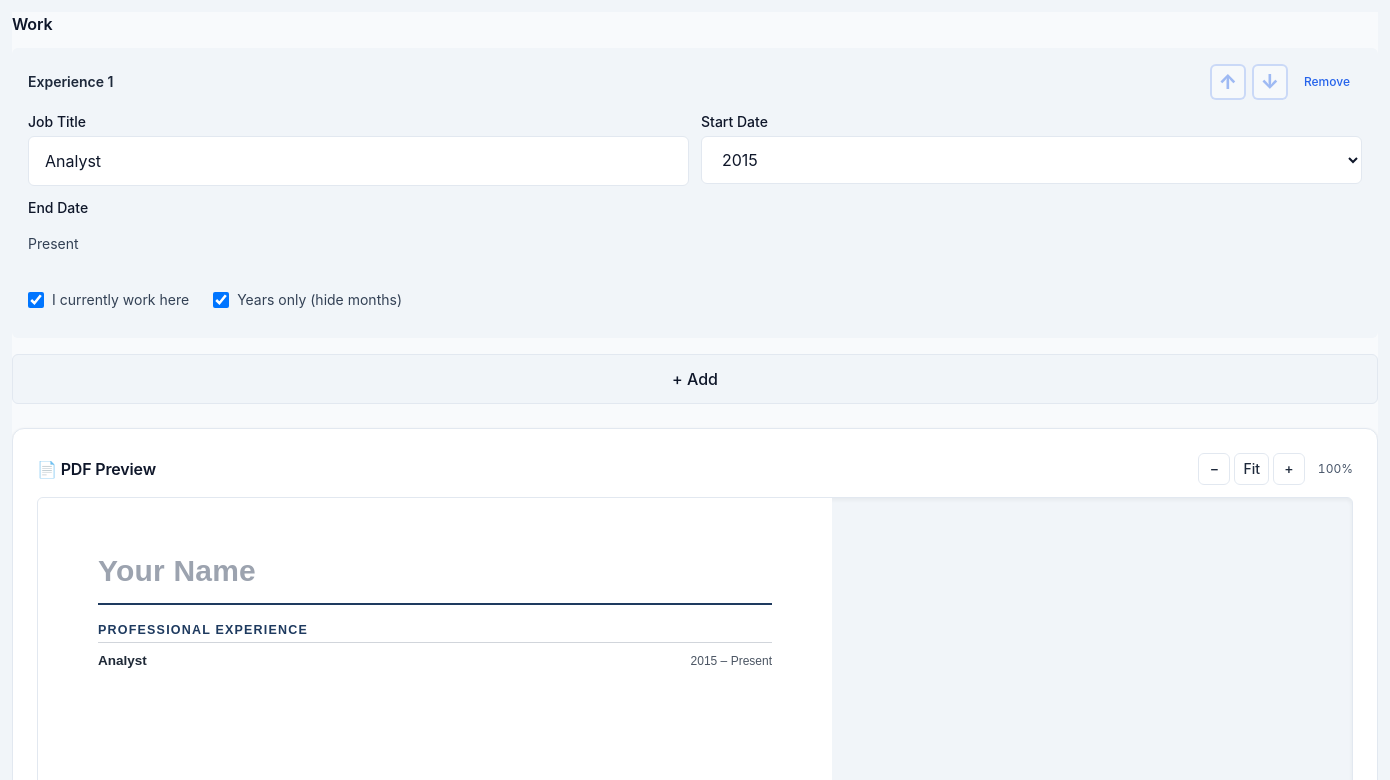
it: "I currently work here" › works together with "Years only"
The width and height of the screenshot is (1390, 780).
Expected: the checkbox labelled "I currently work here" is checked, [28,292,44,308]
Expected: the text "2015 – Present" is shown, [691,653,772,670]
Click the checkbox labelled "Years only (hide months)". click: (221, 300)
box: [213,292,229,308]
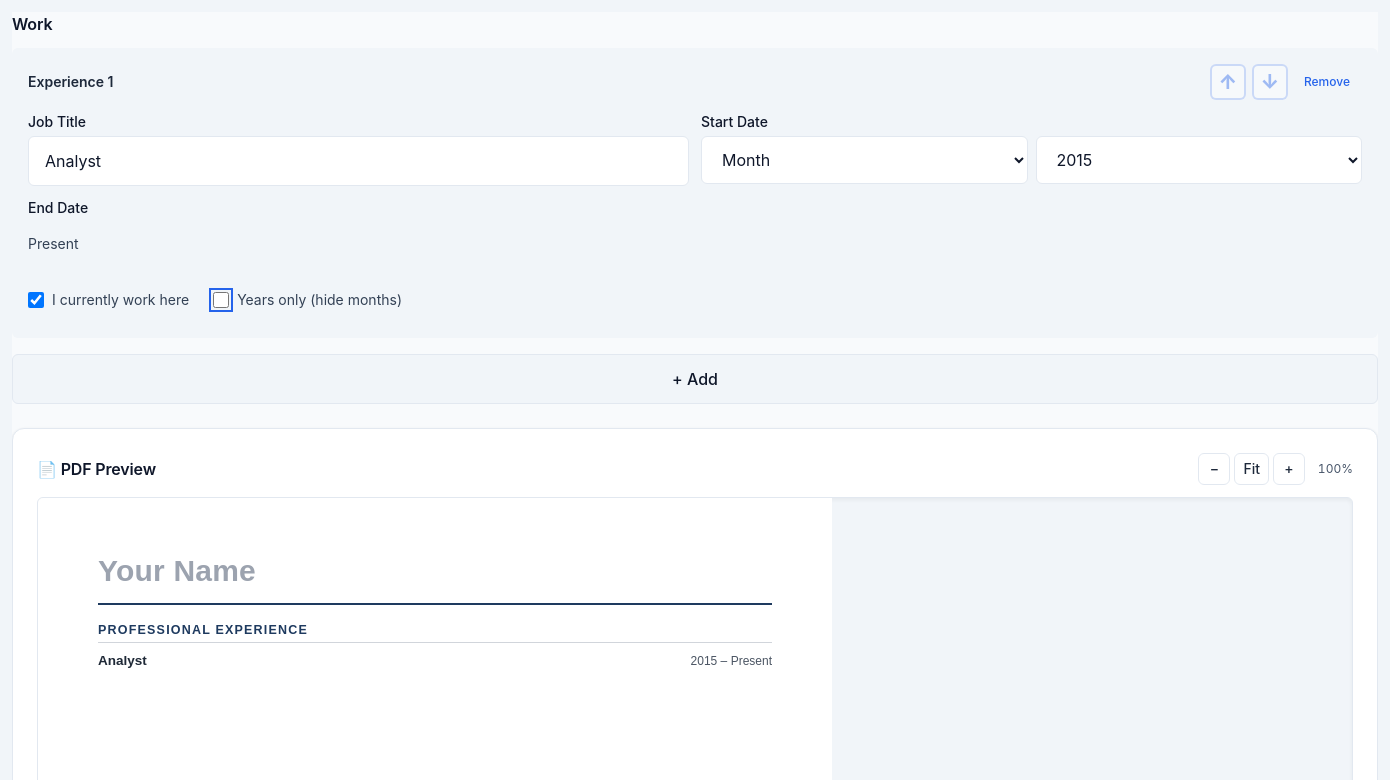
Expected: the 1st dropdown named "Start Date month" is shown, [701,136,1028,184]
